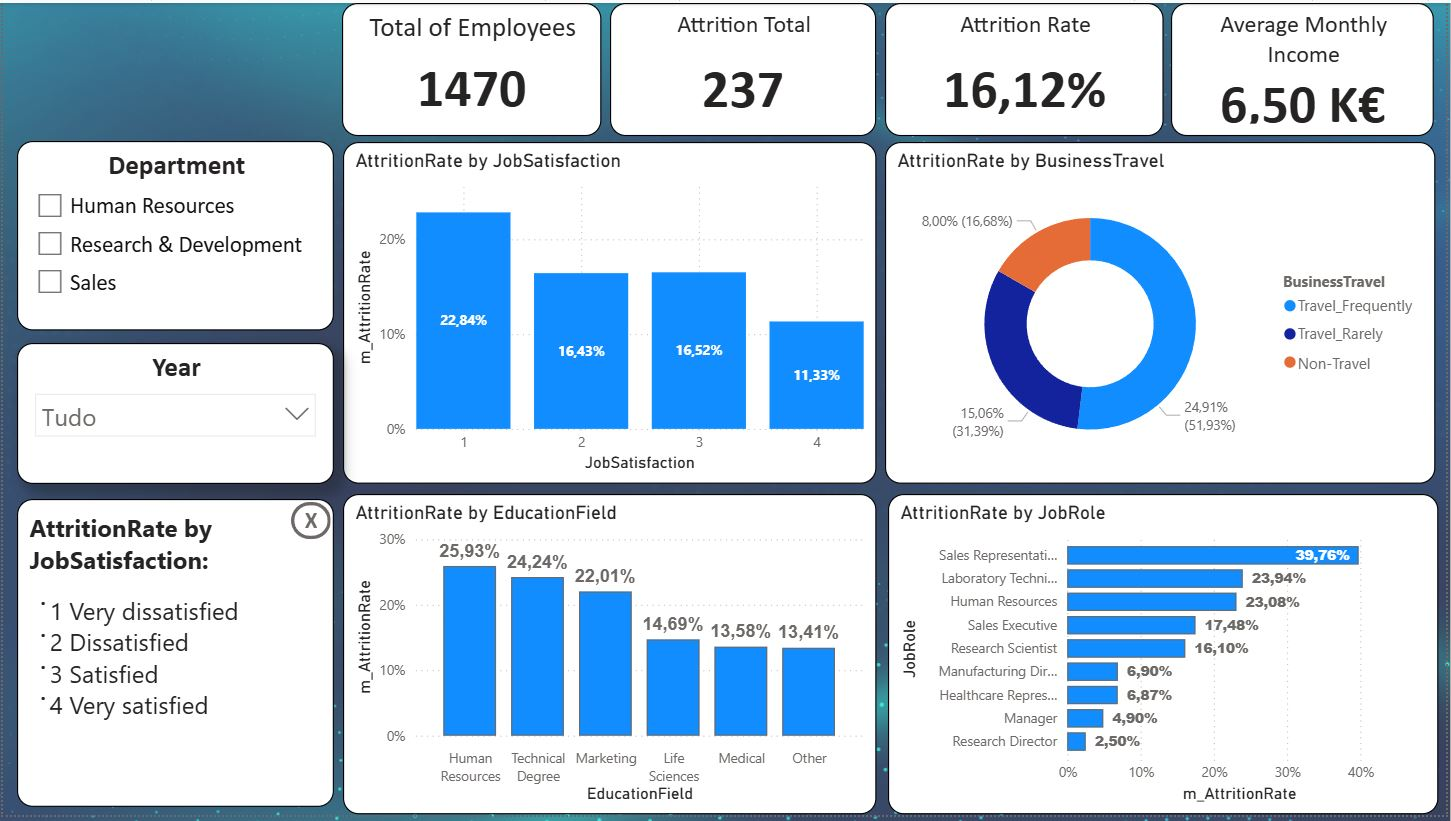

This screenshot's page, from the dashboard's own definition file:
{"tool":"powerbi","page":{"name":"TotalAttrition","canvas":[1280,720],"ordinal":0},"visuals":[{"type":"columnChart","title":"AttritionRate by EducationField","fields":{"Y":["MeasureKey.AttritionRate"],"Category":["DimEmployee.EducationField"]},"box":[301.4,435.4,472.7,284.2],"z":0},{"type":"barChart","title":"AttritionRate by JobRole","fields":{"Category":["DimJobRole.JobRole"],"Y":["MeasureKey.AttritionRate"]},"box":[785.1,435.4,487.8,284.2],"z":1000},{"type":"donutChart","title":"AttritionRate by BusinessTravel","fields":{"Category":["DimBusinessTravel.BusinessTravel"],"Y":["MeasureKey.AttritionRate"]},"box":[782.1,123,487.8,303.4],"z":2000},{"type":"columnChart","title":"AttritionRate by JobSatisfaction","fields":{"Category":["FactEmployee.JobSatisfaction"],"Y":["MeasureKey.AttritionRate"]},"box":[301.4,123,472.7,303.4],"z":3000},{"type":"card","title":"Total of Employees","fields":{"Values":["MeasureKey.TotalEmployee"]},"box":[300.8,0,230,118.5],"z":4000},{"type":"card","title":"Average Monthly Income","fields":{"Values":["MeasureKey.AverageMonthlyIncome"]},"box":[1036.1,0,233.5,118.5],"z":5000},{"type":"card","title":"Attrition Rate","fields":{"Values":["MeasureKey.AttritionRate"]},"box":[781.7,0,247.4,118.5],"z":6000},{"type":"card","title":"Attrition  Total","fields":{"Values":["MeasureKey.AttritionCount"]},"box":[537.8,0,235.8,118.5],"z":7000},{"type":"slicer","title":"Year","fields":{"Values":["DimDate.Year Hierarquia.Year"]},"box":[12.4,301.5,281.1,125],"z":8000},{"type":"slicer","title":"Department","fields":{"Values":["DimDepartment.Department"]},"box":[12.4,122.4,281.1,168.5],"z":9000},{"type":"actionButton","box":[247.4,435.4,46.1,39.9],"z":11000}]}

Visuals, with their boxes in screenshot pixels (x1, y1, x2, y2), scaled from the page's 1280x720 canvas onto the 1451x821 screenshot:
"AttritionRate by EducationField" columnChart: <bbox>342, 496, 878, 820</bbox>
"AttritionRate by JobRole" barChart: <bbox>890, 496, 1443, 820</bbox>
"AttritionRate by BusinessTravel" donutChart: <bbox>887, 140, 1440, 486</bbox>
"AttritionRate by JobSatisfaction" columnChart: <bbox>342, 140, 878, 486</bbox>
"Total of Employees" card: <bbox>341, 0, 602, 135</bbox>
"Average Monthly Income" card: <bbox>1175, 0, 1439, 135</bbox>
"Attrition Rate" card: <bbox>886, 0, 1167, 135</bbox>
"Attrition  Total" card: <bbox>610, 0, 877, 135</bbox>
"Year" slicer: <bbox>14, 344, 333, 486</bbox>
"Department" slicer: <bbox>14, 140, 333, 332</bbox>
actionButton: <bbox>280, 496, 333, 542</bbox>
